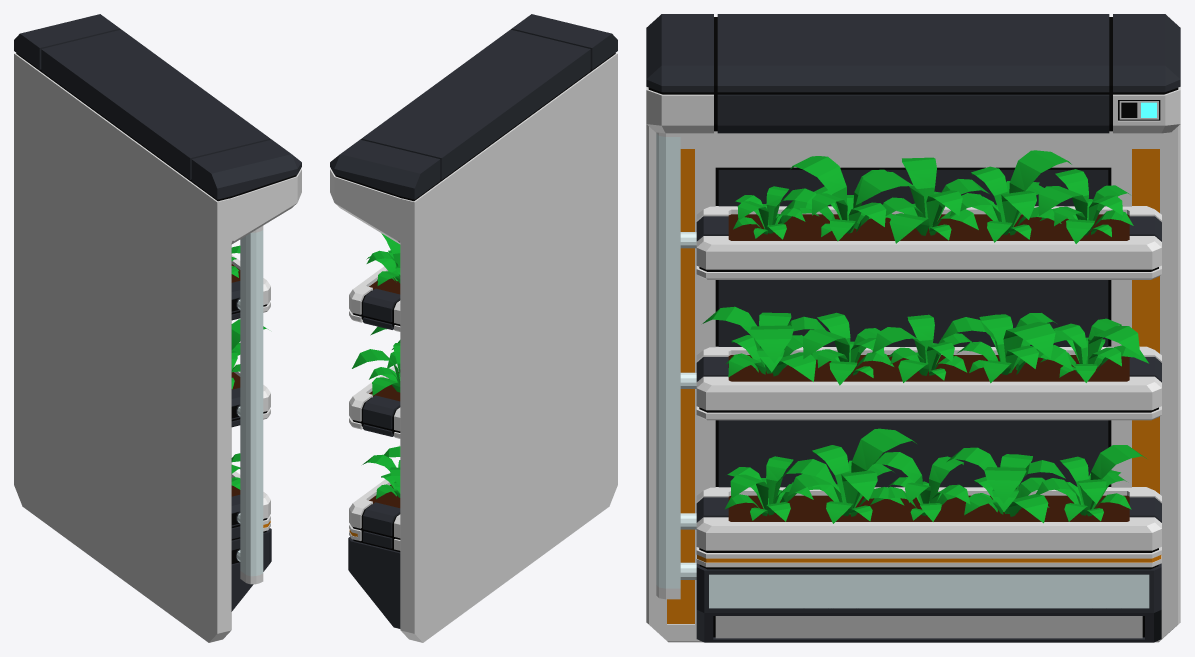
The model's file is SM_Hydroponic_GrowRack.fbx.
The picture shows the model from 3 angles, left to right: view 1: azimuth 30°, elevation 25°; view 2: azimuth 150°, elevation 25°; view 3: azimuth 270°, elevation 25°; orthographic projection. The views are drawn at different scales.
Visible parts, largest first — view 1: SM_Hydroponic_GrowRack; view 2: SM_Hydroponic_GrowRack; view 3: SM_Hydroponic_GrowRack.
Boxes of the visible parts, x1,y1,x2,y2 form: SM_Hydroponic_GrowRack: (14, 14, 301, 642); SM_Hydroponic_GrowRack: (330, 14, 617, 642); SM_Hydroponic_GrowRack: (646, 14, 1180, 642).
Bounding box in the file's own units: 40.63 × 176 × 138.
